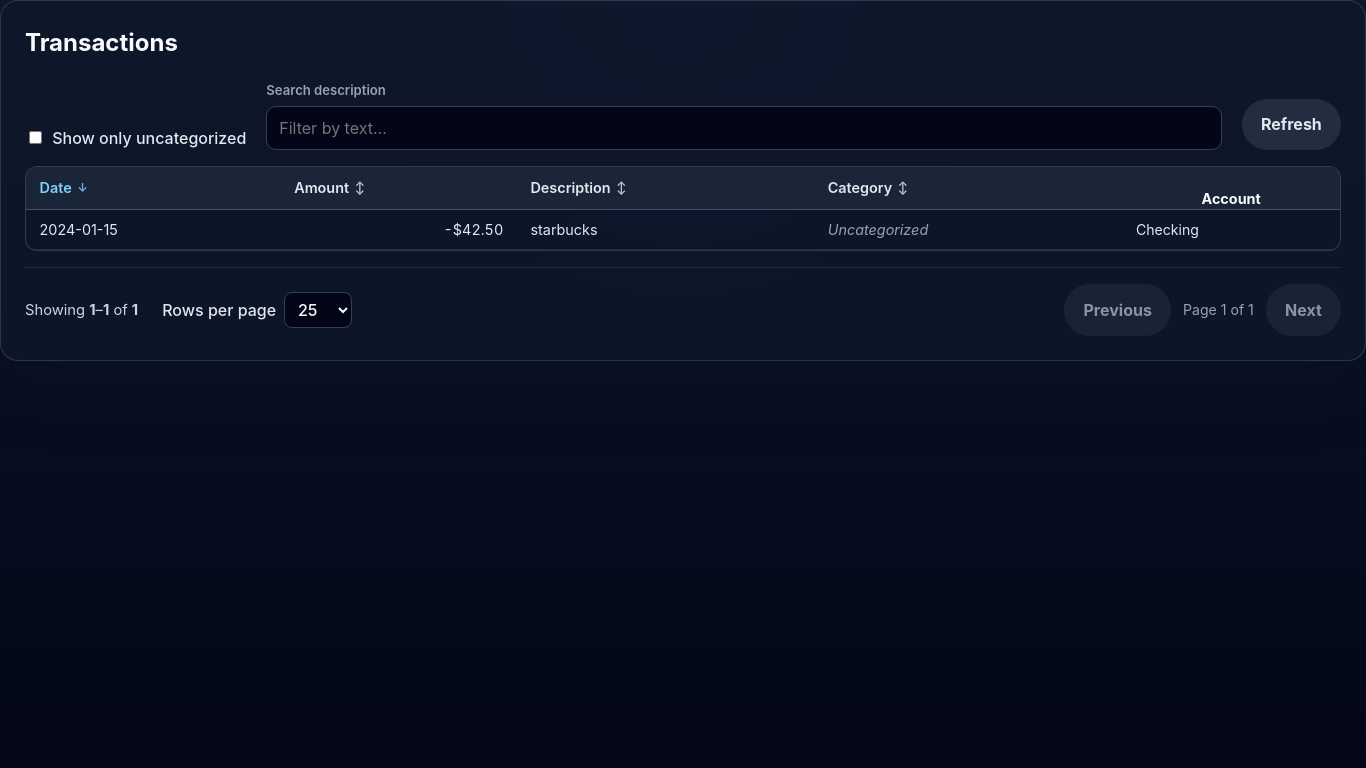
Test: TransactionsPage › saves a category correction and transitions to the rule-proposal phase
This screenshot has width=1366, height=768.
Click the text "starbucks": [564, 229] box [517, 210, 814, 250]
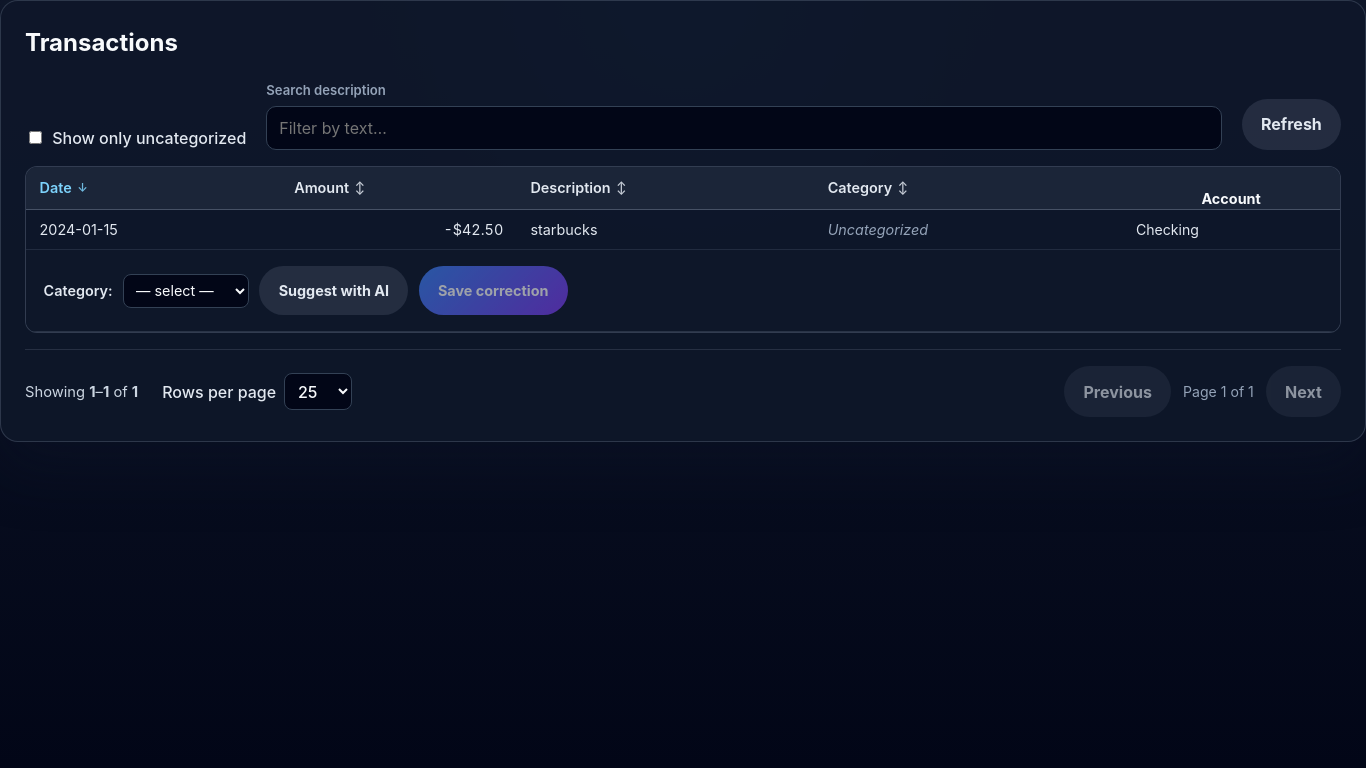
Select "Food & Drink" in the dropdown labelled "Category:": [186, 291] box [123, 274, 249, 308]
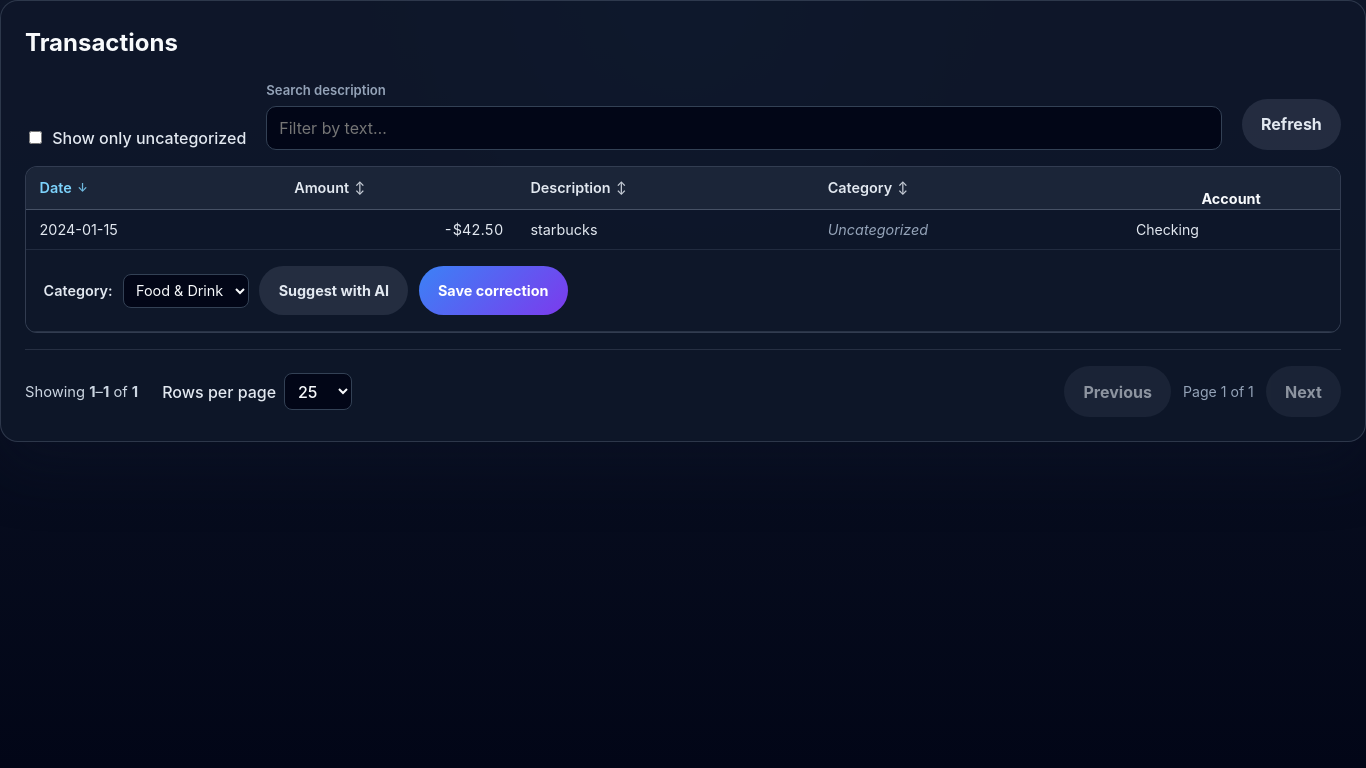
Click the button "Save correction": [493, 291] box [419, 266, 568, 315]
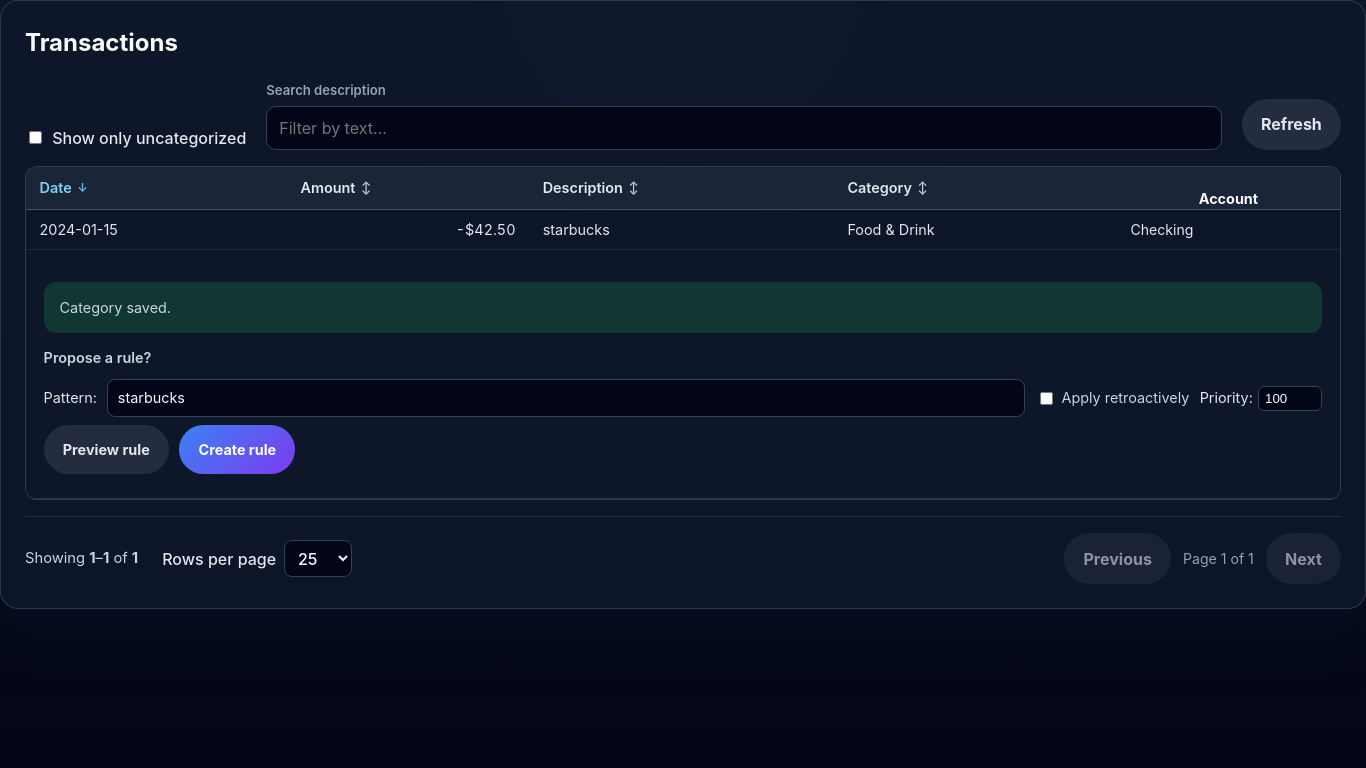
Expected: the text "Category saved." is shown, [44, 282, 1322, 333]
Expected: the text "Propose a rule?" is shown, [44, 349, 151, 366]
Expected: the field labelled "Pattern:" is shown, [107, 379, 1026, 417]
